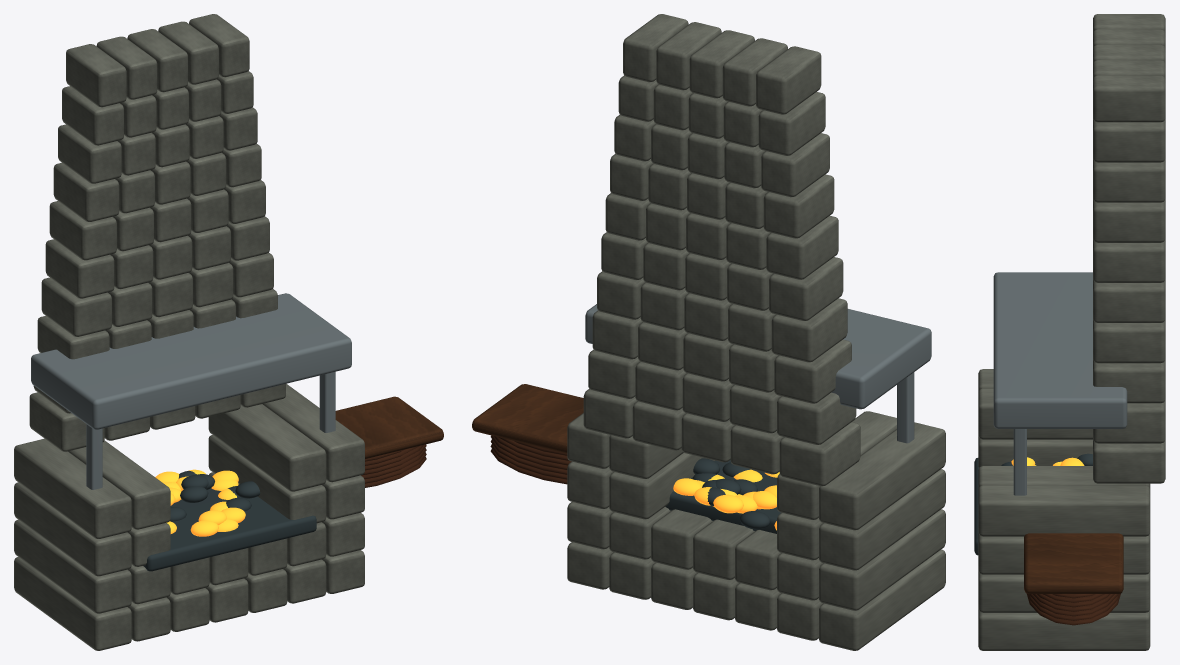
File: forge.glb
3 renders of one model, left to right at view 1: azimuth 30°, elevation 25°; view 2: azimuth 150°, elevation 25°; view 3: azimuth 270°, elevation 25°, orthographic. The views are drawn at different scales.
Visible parts, largest first — view 1: forge_stone, forge_iron, forge_ink, forge_oak, forge_ember, forge_leather; view 2: forge_stone, forge_iron, forge_oak, forge_ink, forge_leather, forge_ember; view 3: forge_stone, forge_iron, forge_oak, forge_leather, forge_ink.
Part boxes in pixels (x1,y1,x2,y2): forge_stone: (14,14,364,650); forge_iron: (31,293,351,489); forge_ink: (143,471,316,571); forge_oak: (335,396,443,458); forge_ember: (155,469,245,536); forge_leather: (361,444,426,487); forge_stone: (567,14,945,650); forge_iron: (585,304,931,443); forge_oak: (472,384,583,453); forge_ink: (665,458,780,533); forge_leather: (490,435,571,484); forge_ember: (673,469,779,530); forge_stone: (978,14,1165,650); forge_iron: (993,272,1127,495); forge_oak: (1024,533,1123,593); forge_leather: (1026,593,1120,625); forge_ink: (974,453,1092,555).
Bounding box in the file's own units: 2.3 × 3.09 × 1.
6 materials, 3 textured.
